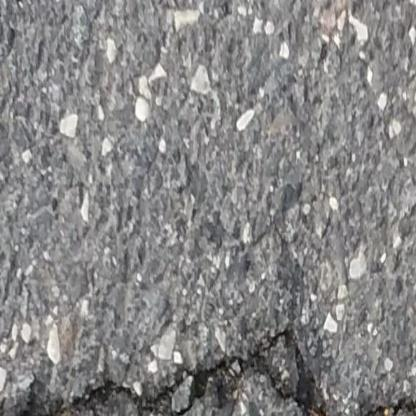Cracks: (0, 331, 416, 416)
